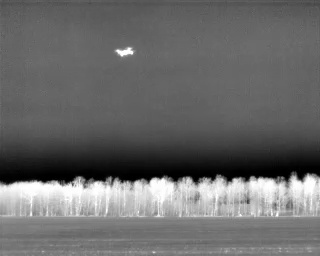DRONE: (111, 42, 139, 63)
